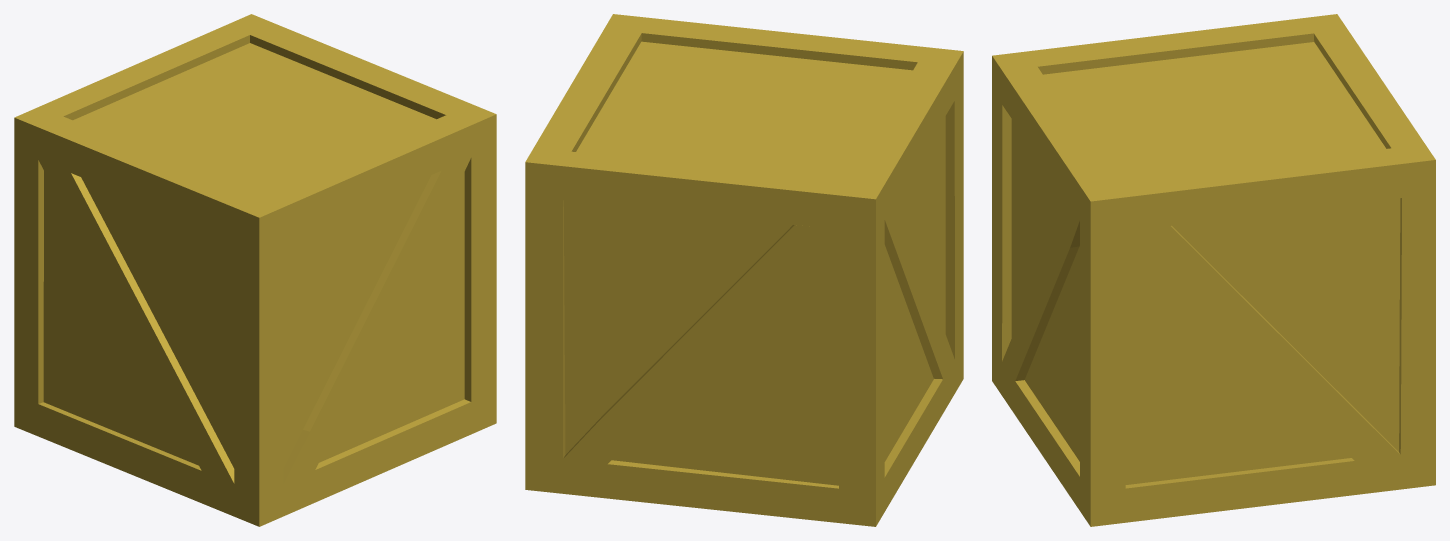
The model's file is Wood Crate.fbx.
The picture shows the model from 3 angles, left to right: view 1: azimuth 30°, elevation 25°; view 2: azimuth 150°, elevation 25°; view 3: azimuth 270°, elevation 25°; orthographic projection. The views are drawn at different scales.
Parts seen in each view (by area): view 1: Wooden Crate; view 2: Wooden Crate; view 3: Wooden Crate.
Boxes of the visible parts, left/top/right/bottom form: Wooden Crate: left=14, top=14, right=496, bottom=526; Wooden Crate: left=525, top=14, right=963, bottom=526; Wooden Crate: left=992, top=14, right=1435, bottom=526.
Size of the model in its own units: 125 by 101 by 125.
